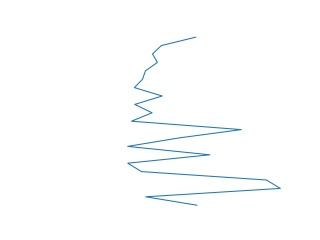crevasseRiverBedLagDeposit: (124, 34, 285, 208)
